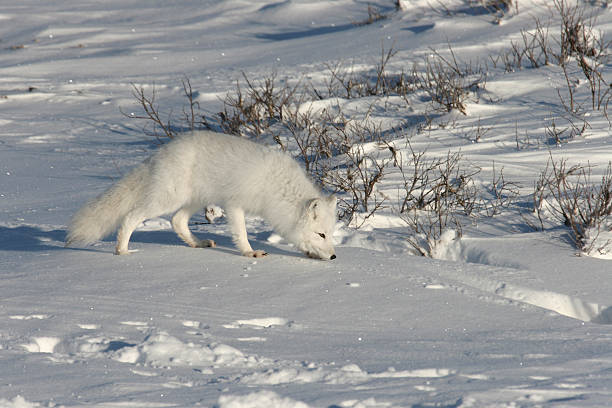arcticfox: (295, 215, 346, 270)
